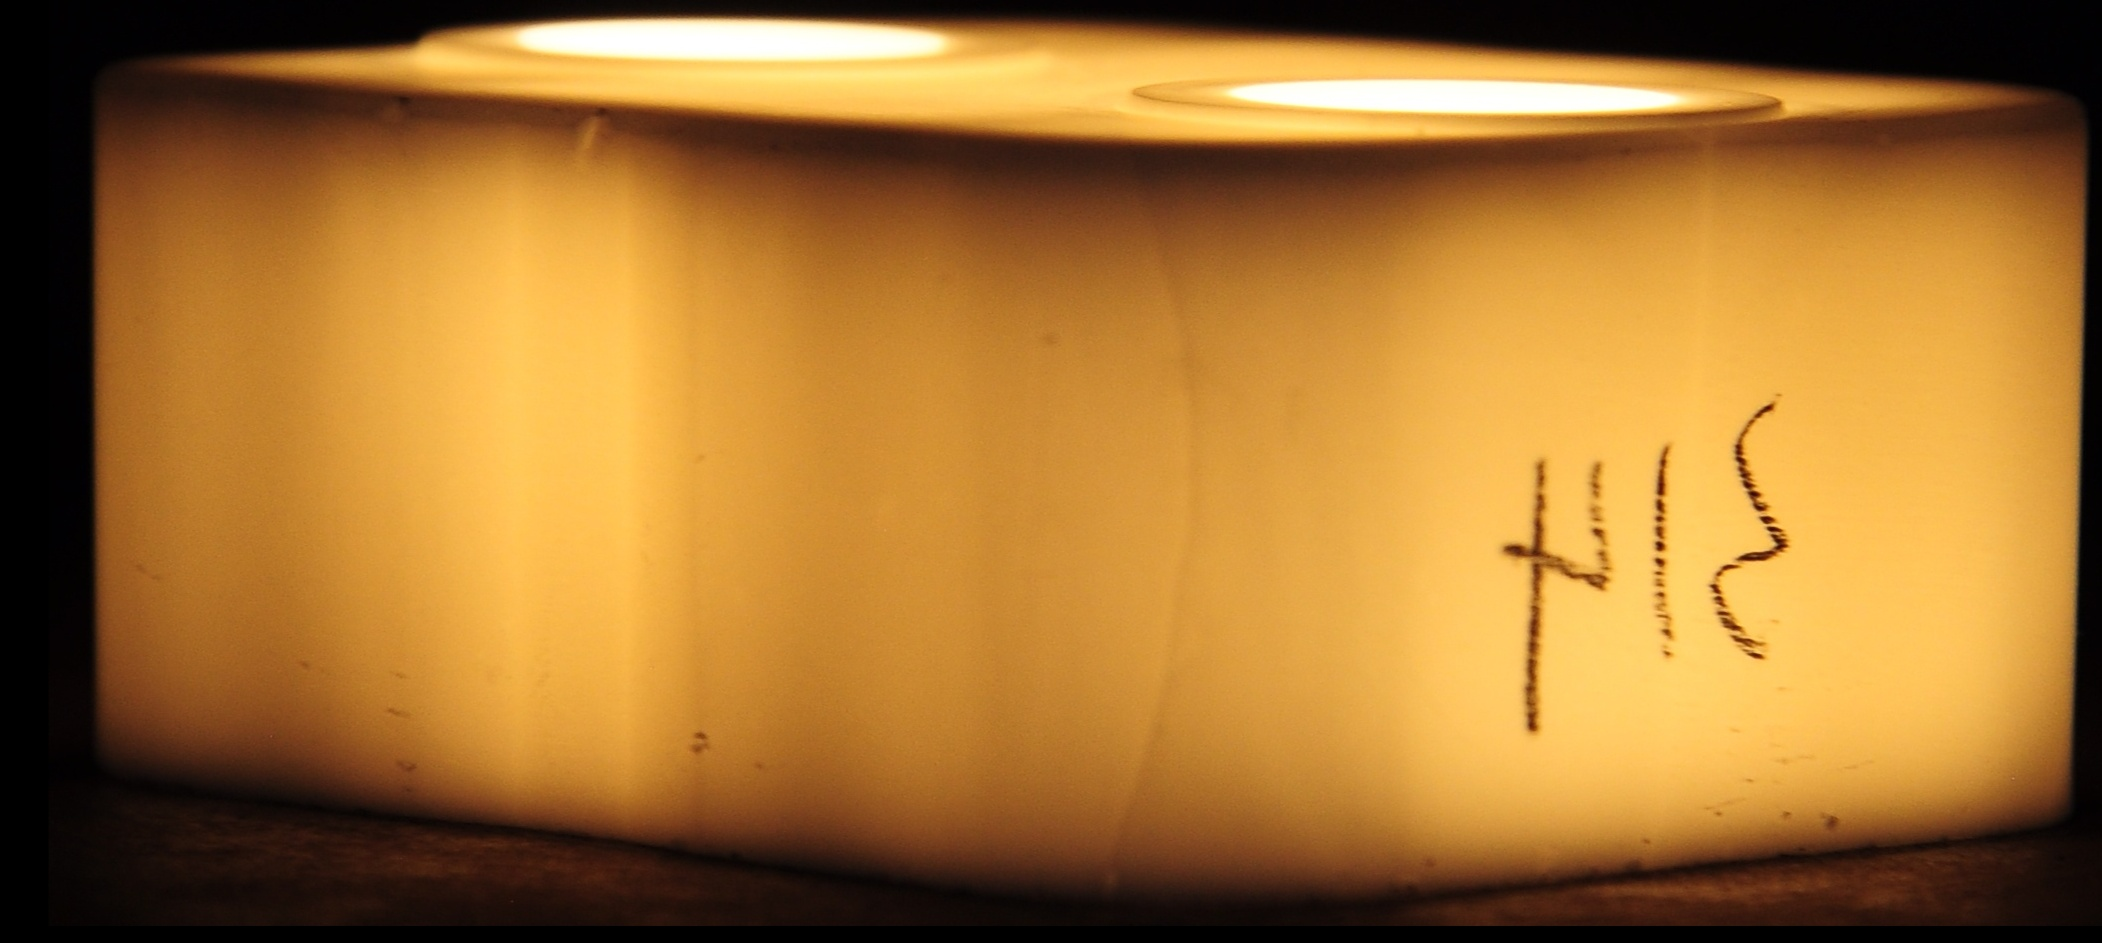flaw: (1087, 142, 1231, 879)
hiatus: (560, 98, 626, 168), (365, 85, 420, 131)
